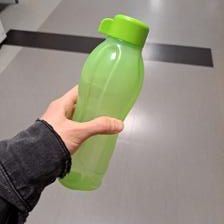bottle: (53, 12, 152, 188)
